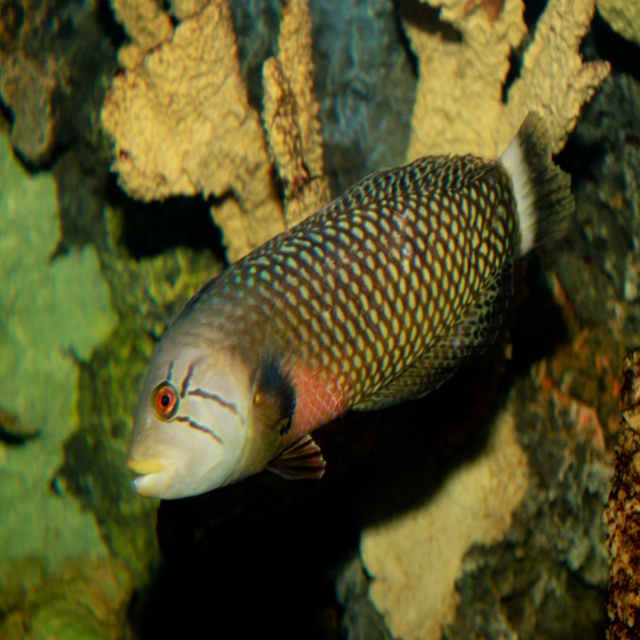Fish: (128, 125, 599, 535)
